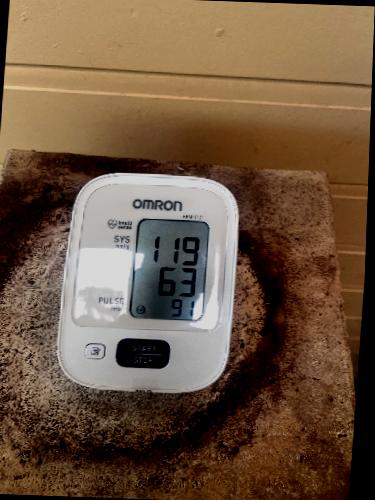bpm: (127, 216, 209, 321)
